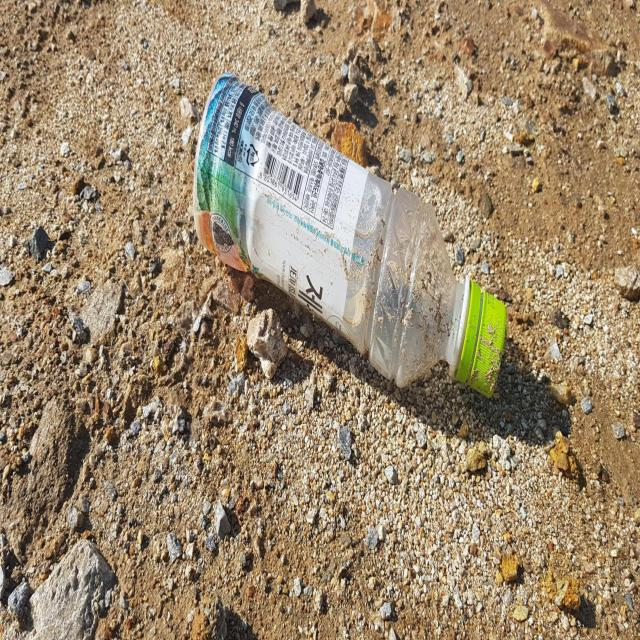plastic: (193, 72, 506, 396)
